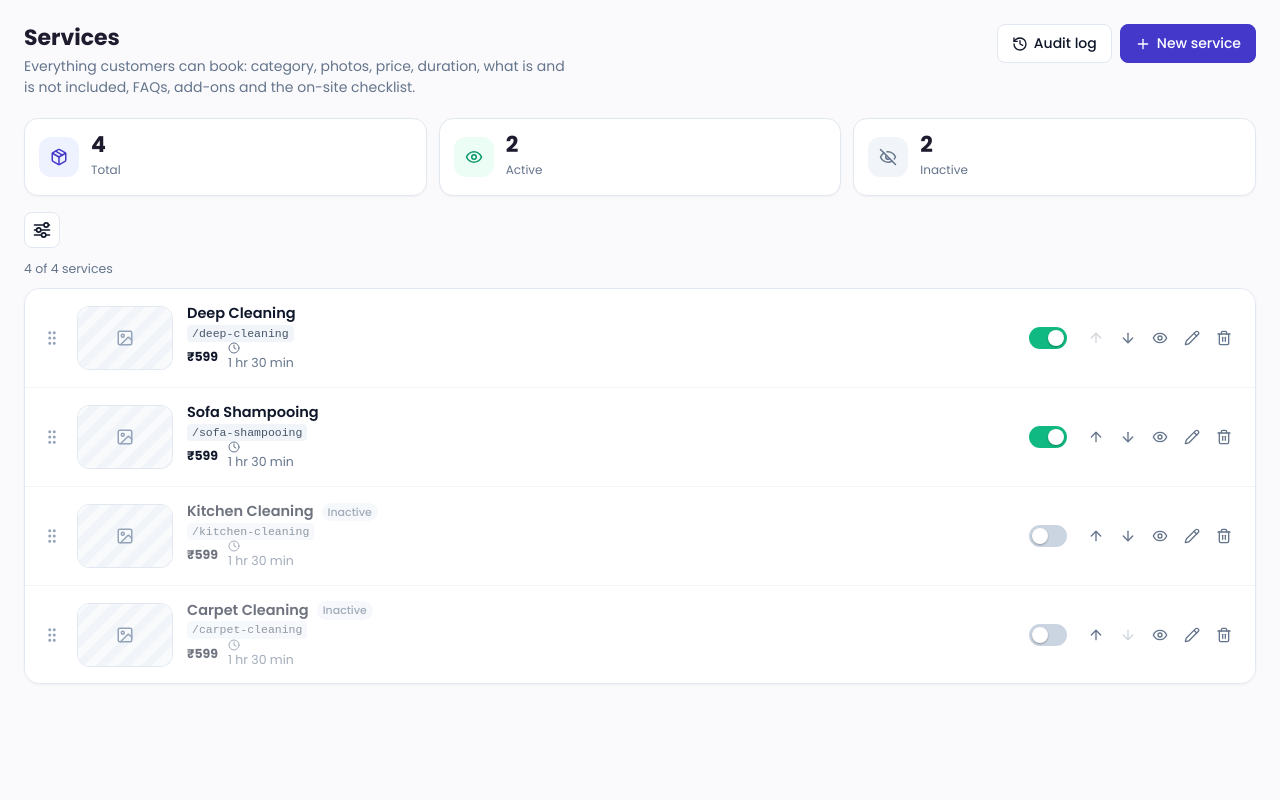
Test: Admin services page › shows the server message when a service cannot be deleted
expect the text "Deep Cleaning" is shown: met, box x1=187 y1=303 x2=296 y2=325
Click the button named "Delete Deep Cleaning" at (1224, 338), box x1=1209 y1=323 x2=1239 y2=353
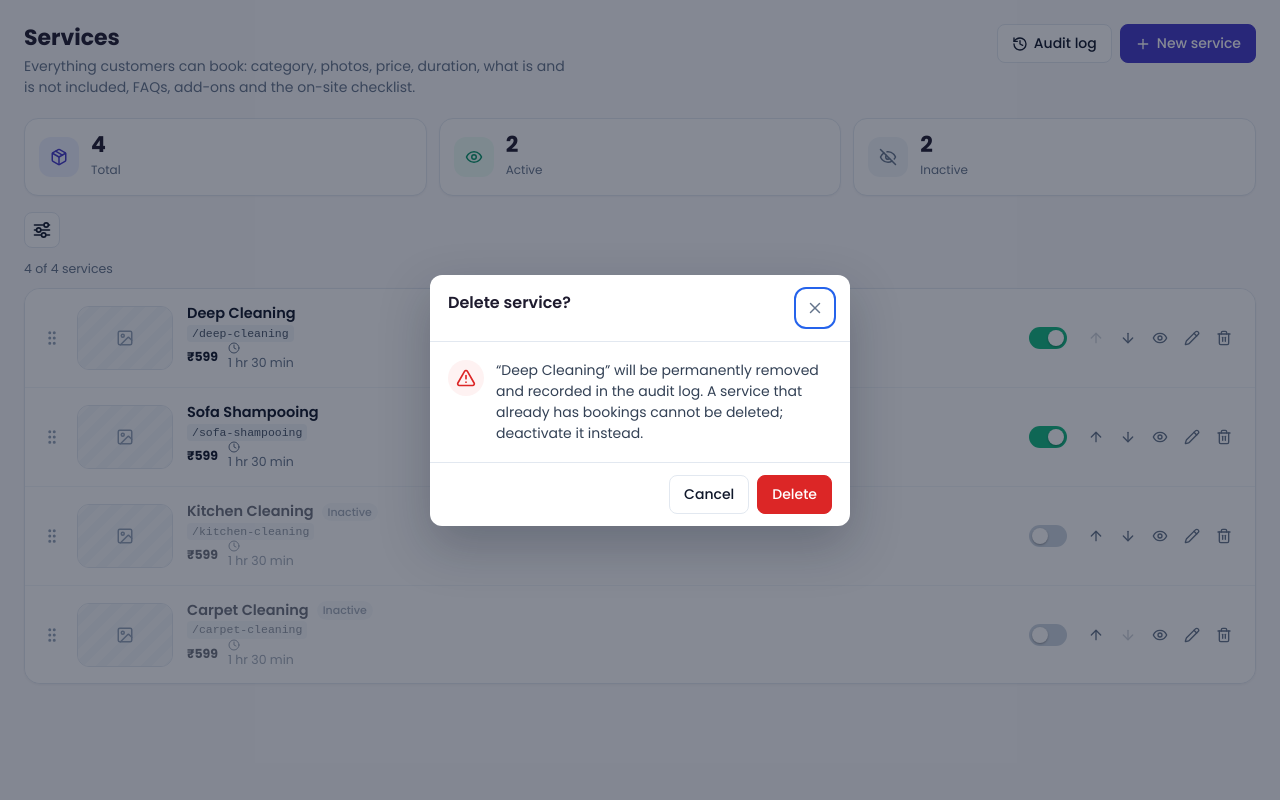
Click the button "Delete" at (795, 494), box x1=757 y1=474 x2=832 y2=514
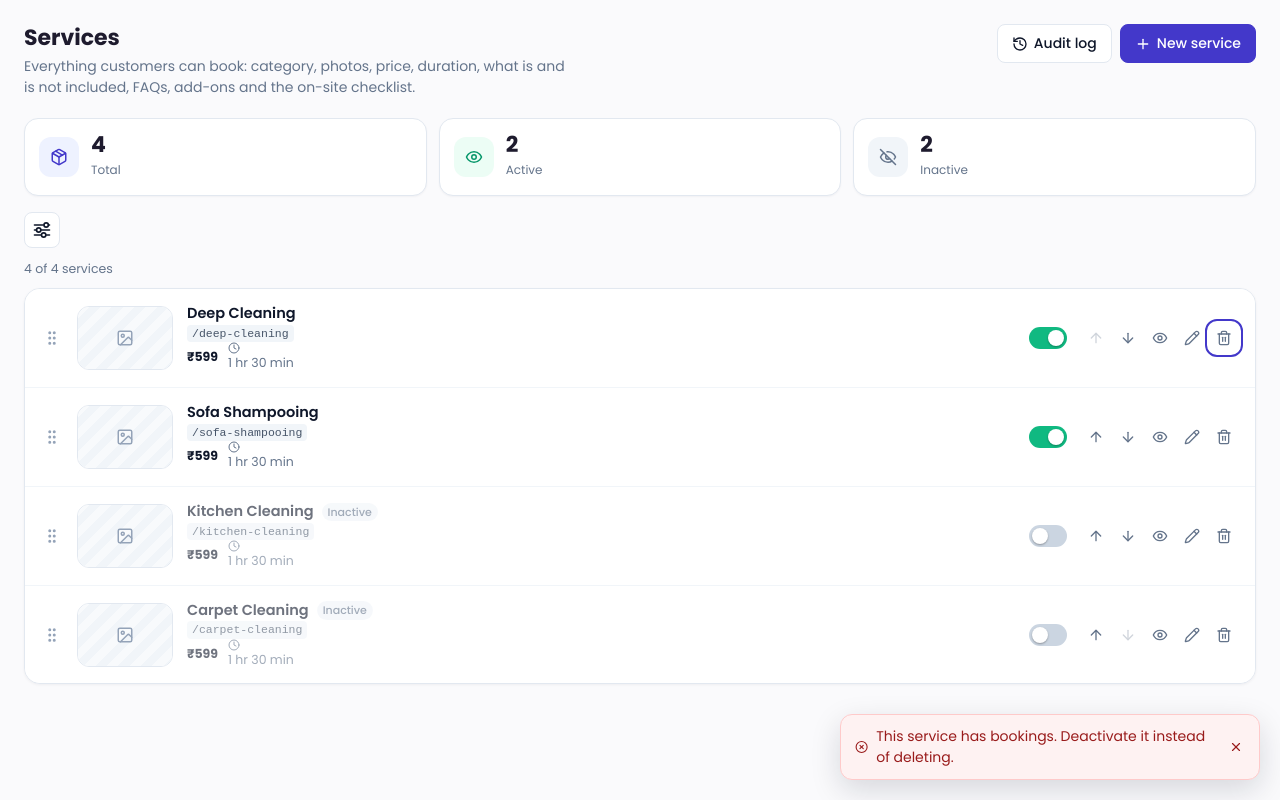
expect the text "has bookings" is shown: met, box x1=876 y1=726 x2=1205 y2=767
